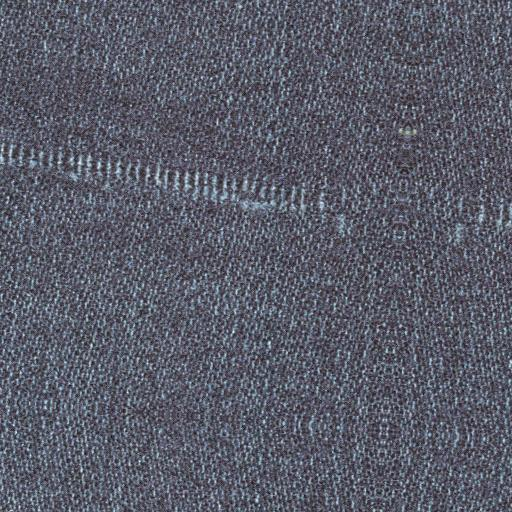slub: (3, 135, 338, 224)
